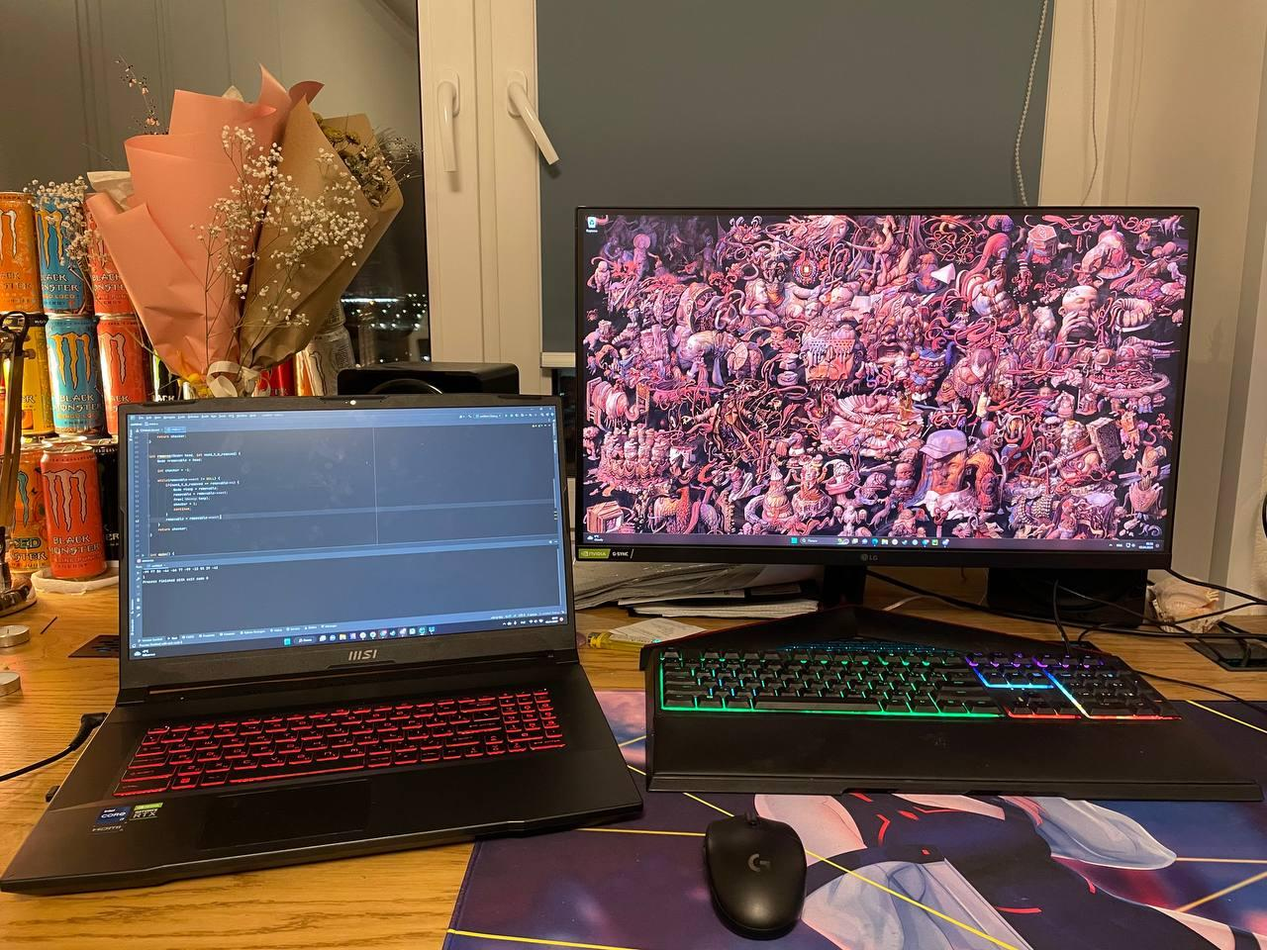monitor: (568, 199, 1203, 568), (116, 392, 578, 693)
